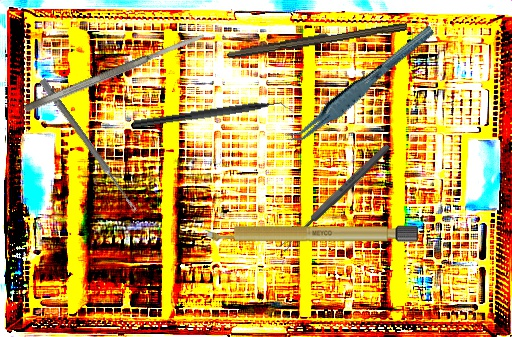Chopper: (131, 95, 297, 139)
Scalpel Handle: (226, 17, 408, 62), (201, 225, 420, 242)
Spatula Surgical: (22, 31, 207, 114)
Surgical Spoon: (38, 78, 140, 214), (277, 142, 393, 253)
Tissue Forceps: (275, 24, 446, 148)
